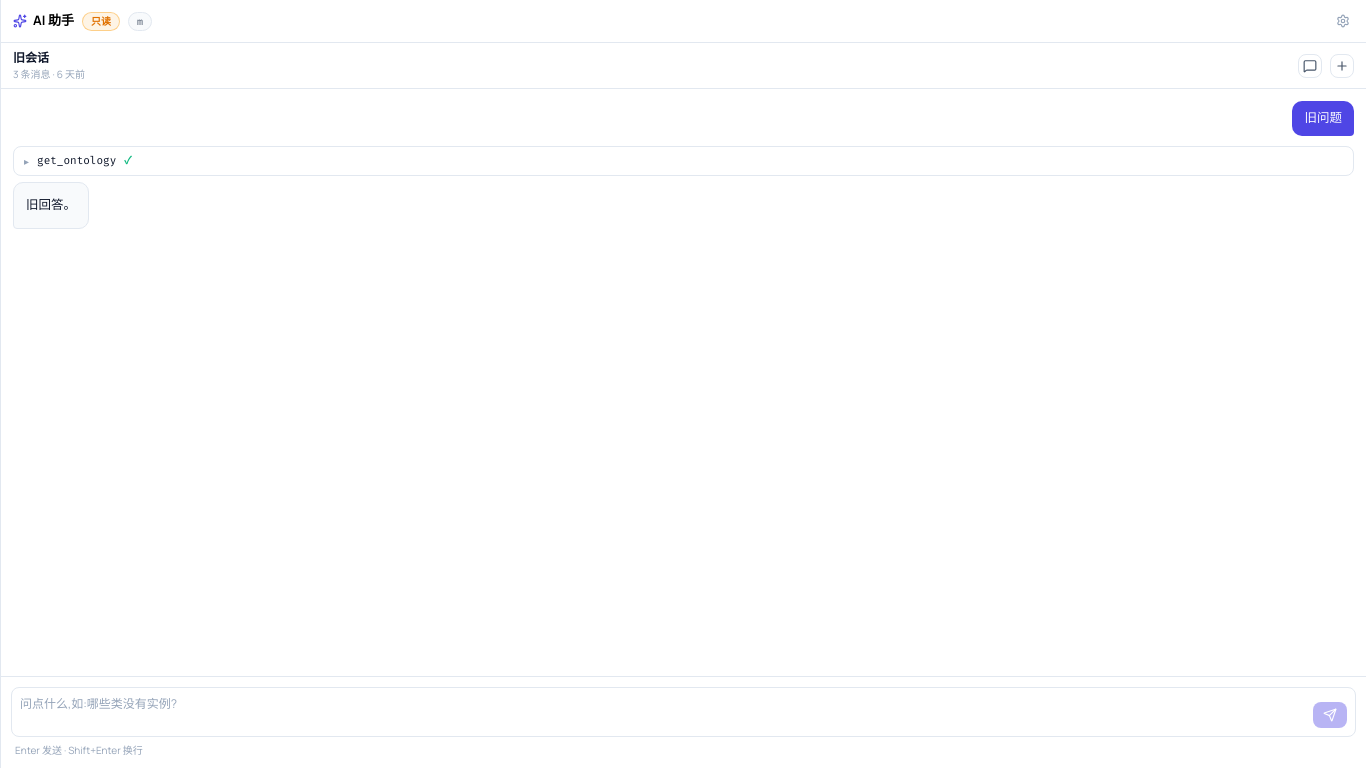
Test case: AiChatDrawer › loads the latest session history on open and renders stored tool rows
Expected: the text "AI 助手" is shown, top-left (13, 11), bottom-right (74, 31)
Expected: the text "旧问题" is shown, top-left (1292, 101), bottom-right (1354, 136)
// stored tool row expands to its persisted result JSON
Click the button "▸ get_ontology ✓": (77, 160) top-left (14, 147), bottom-right (1353, 175)
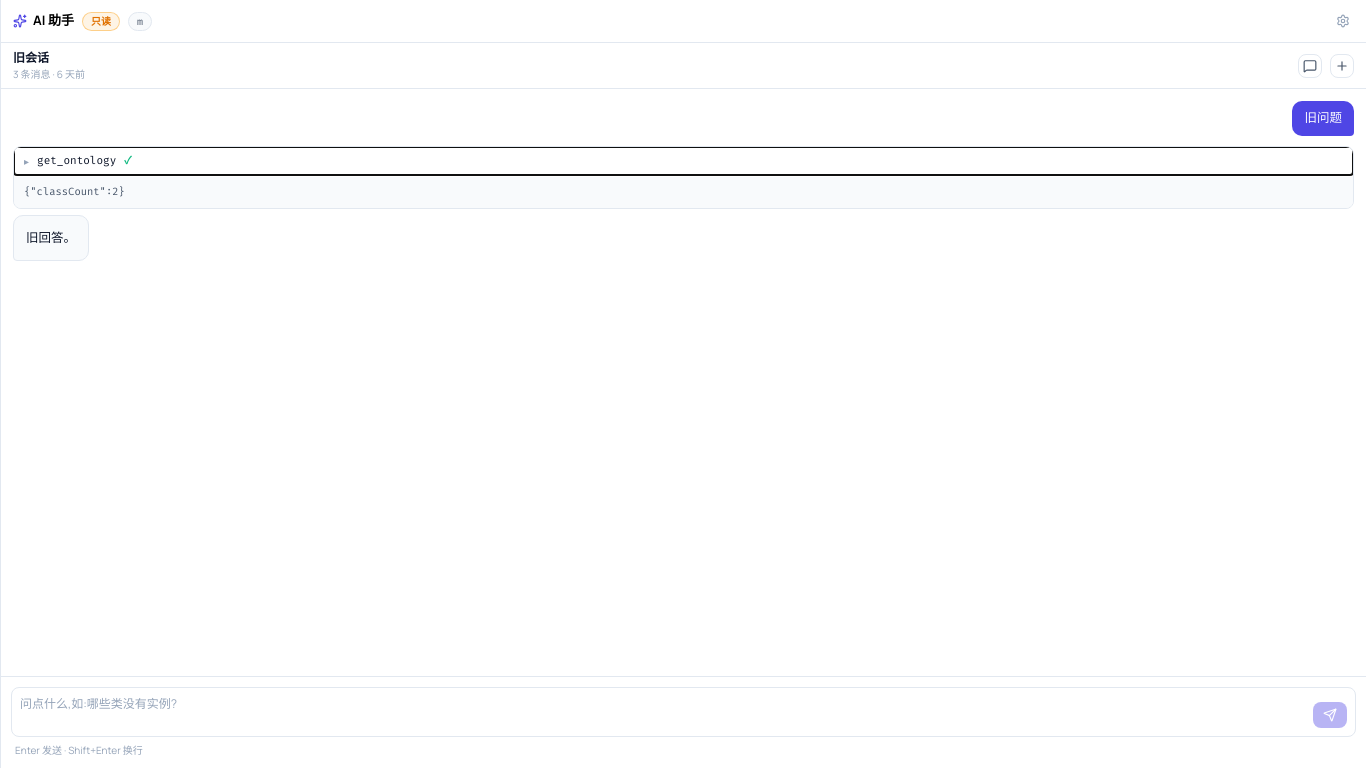
Result: the text "{\"classCount\":2}" is shown at top-left (14, 175), bottom-right (1353, 208)
